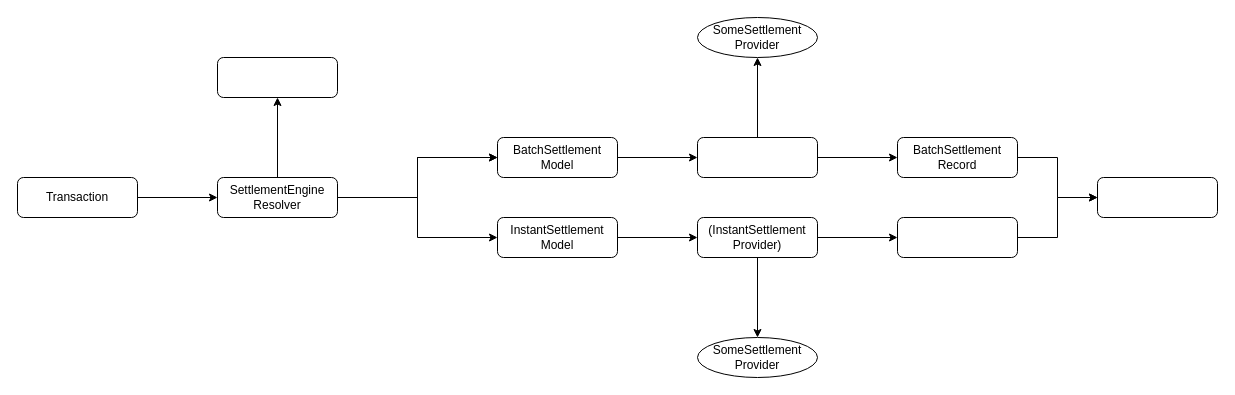
Image size: 1235x395. Some labels were removed from this diagram. The shapes that lost their labels are listed below. From the top down, each one's centre as x and y in pixels, then its label:
At (277,77): "SettlementDefinition".
At (757,157): "(BatchSettlement Provider)".
At (1157,197): "Settlement Record".
At (957,237): "InstantSettlement Record".
